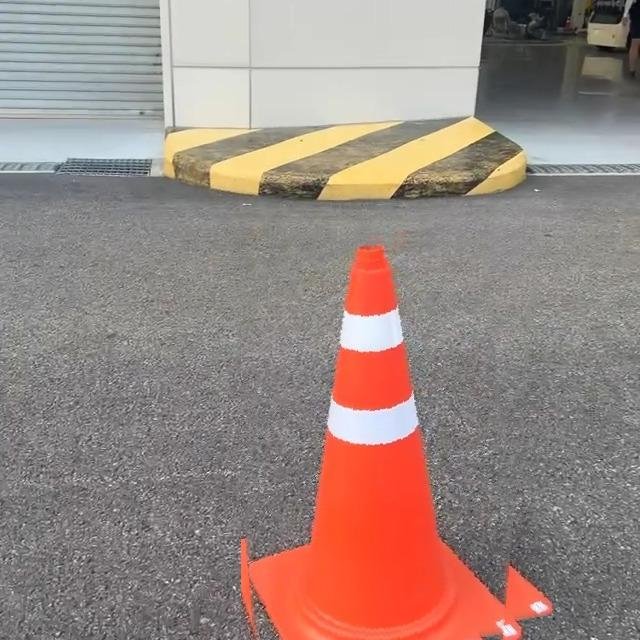fallen_object: (189, 137, 552, 640)
